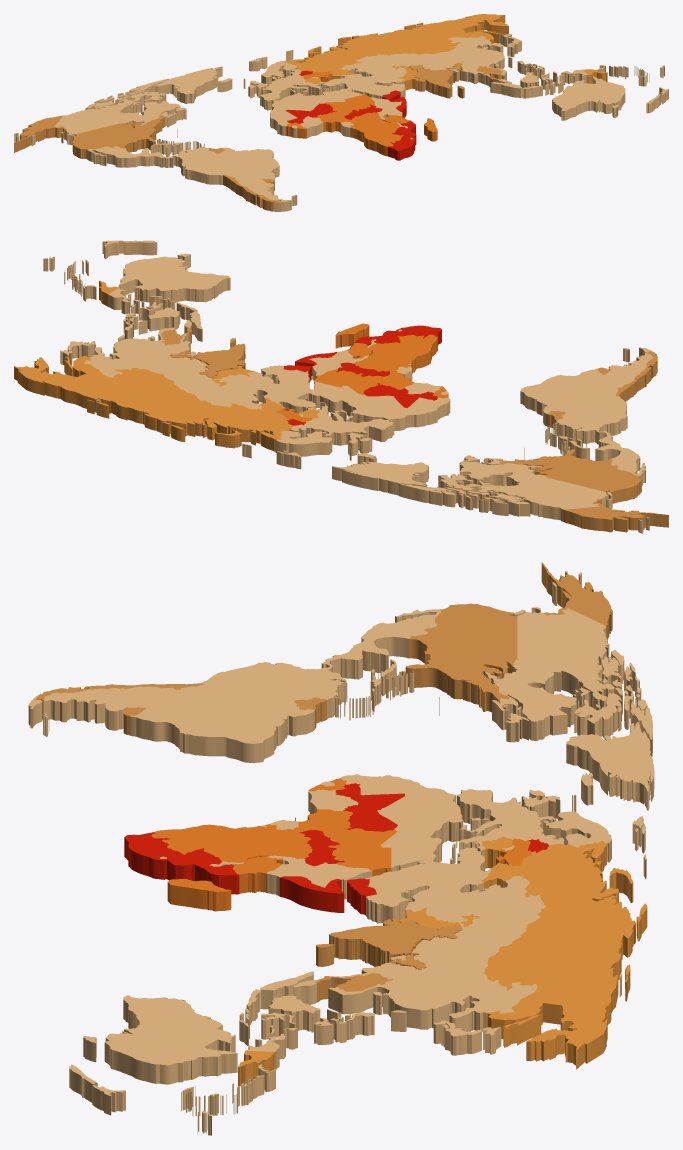
The model's file is 3D map.fbx.
3 views of the same model, one above another, from view 1: azimuth 30°, elevation 25°; view 2: azimuth 150°, elevation 25°; view 3: azimuth 270°, elevation 25° (orthographic). The views are drawn at different scales.
Parts seen in each view (by area): view 1: Curve.096, Curve.018, Curve.107, Curve.005, Curve.039, BR, GL, IN-CT, MX, Curve.111, Curve.089, KZ (+15 smaller); view 2: Curve.096, Curve.018, Curve.005, Curve.039, Curve.107, BR, GL, Curve.111, IN-CT, KZ, MX, Curve.003 (+20 smaller); view 3: Curve.096, Curve.018, BR, Curve.005, Curve.039, Curve.107, GL, IN-CT, Curve.003, MX, KZ, Curve.111 (+28 smaller).
Part boxes in pixels (x1,y1,x2,y2): Curve.096: [284, 14, 508, 79]; Curve.018: [55, 97, 179, 141]; Curve.107: [72, 115, 165, 158]; Curve.005: [552, 76, 625, 120]; Curve.039: [402, 36, 504, 68]; BR: [199, 148, 279, 180]; GL: [154, 66, 222, 103]; IN-CT: [407, 63, 462, 98]; MX: [87, 146, 148, 167]; Curve.111: [14, 115, 66, 152]; Curve.089: [223, 174, 281, 211]; KZ: [341, 53, 406, 76]; Curve.096: [14, 356, 292, 451]; Curve.018: [459, 458, 608, 521]; Curve.005: [118, 256, 230, 302]; Curve.039: [84, 338, 213, 388]; Curve.107: [499, 449, 641, 503]; BR: [520, 368, 613, 423]; GL: [332, 461, 428, 495]; Curve.111: [563, 499, 668, 532]; IN-CT: [170, 343, 245, 378]; KZ: [180, 383, 262, 409]; MX: [595, 445, 645, 485]; Curve.003: [590, 352, 653, 389]; Curve.096: [481, 841, 635, 1069]; Curve.018: [485, 608, 614, 740]; BR: [129, 675, 312, 763]; Curve.005: [104, 995, 237, 1084]; Curve.039: [383, 924, 537, 1029]; Curve.107: [405, 603, 518, 712]; GL: [566, 722, 654, 810]; IN-CT: [329, 917, 462, 969]; Curve.003: [43, 686, 184, 730]; MX: [357, 609, 441, 672]; KZ: [478, 876, 545, 937]; Curve.111: [541, 562, 612, 640].
Size of the model in its own units: 50.6 by 0.9017 by 24.13.
